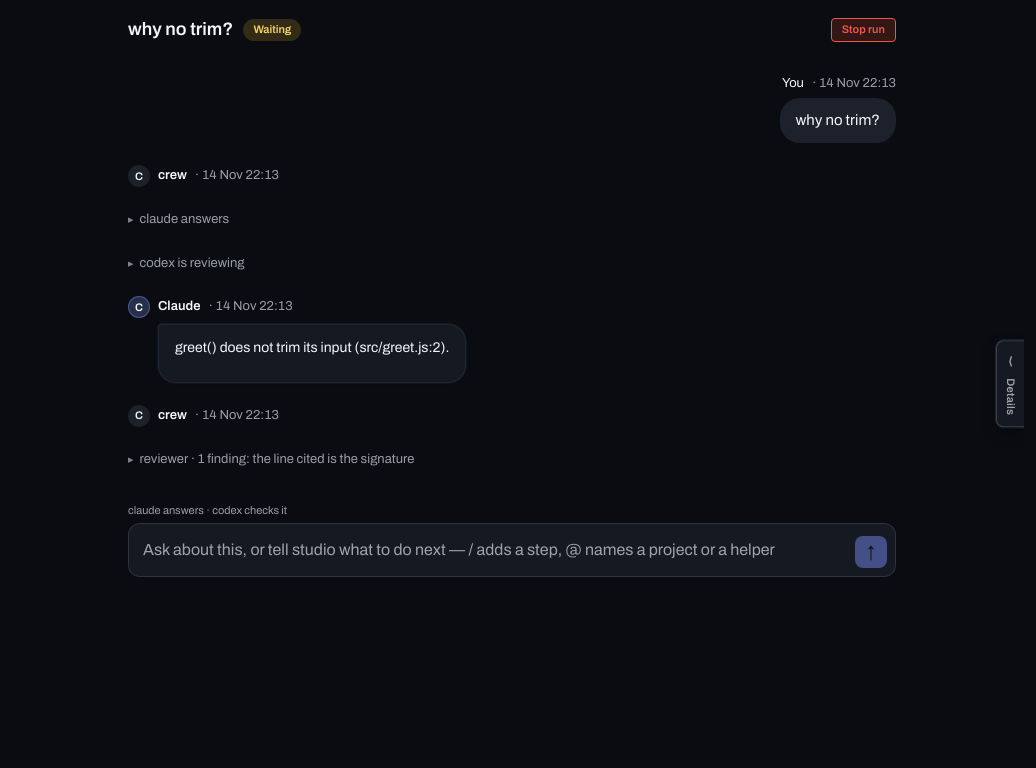
Test: one thread, one voice › a quiet line expands to its row: the pick, the score and the shape under who answers; evidence and suggestion under a finding
Click the button with test id "ask-line-toggle" showing "claude answers". click: (179, 220)
box: [128, 209, 229, 231]
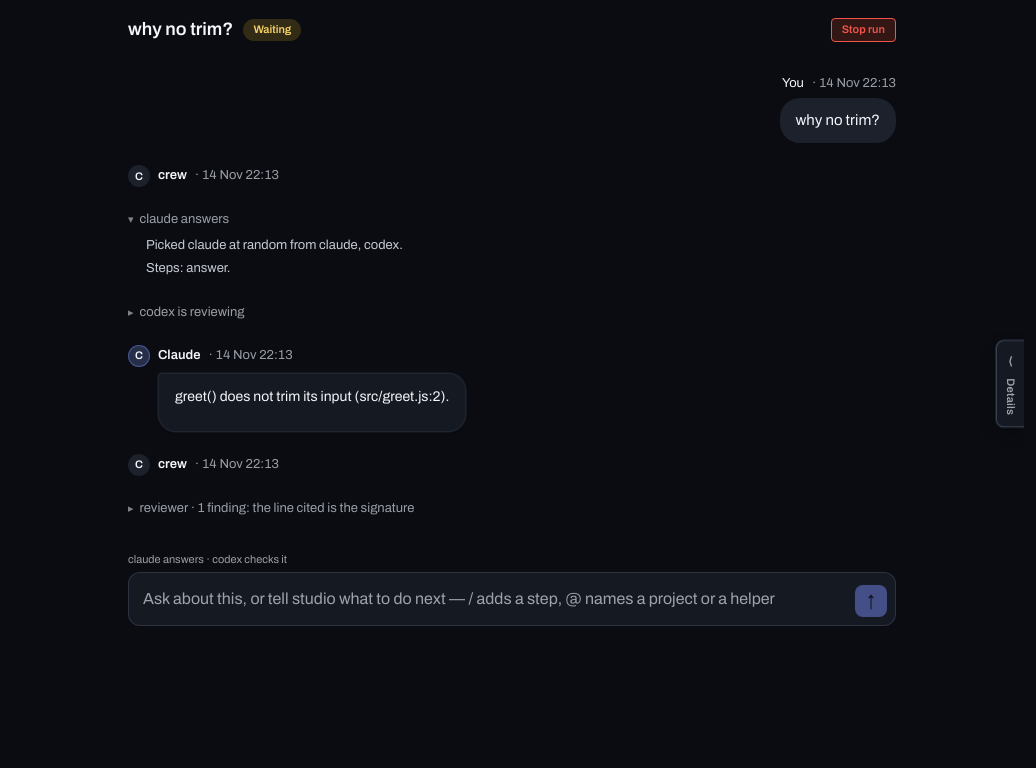
Click the 3rd button with test id "ask-line-toggle". click: (271, 508)
box: [128, 498, 414, 519]
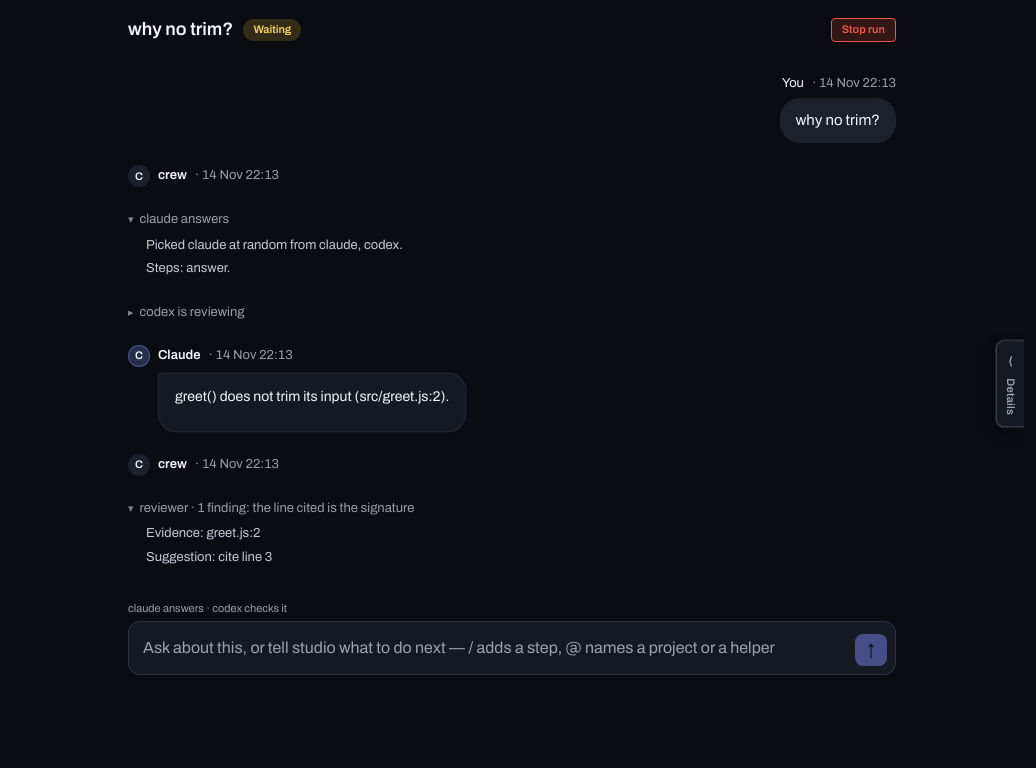
Check: the list with test id "ask-line-detail" reads "Evidence: greet.js:2 Suggestion: cite line 3", box [146, 526, 272, 564]
